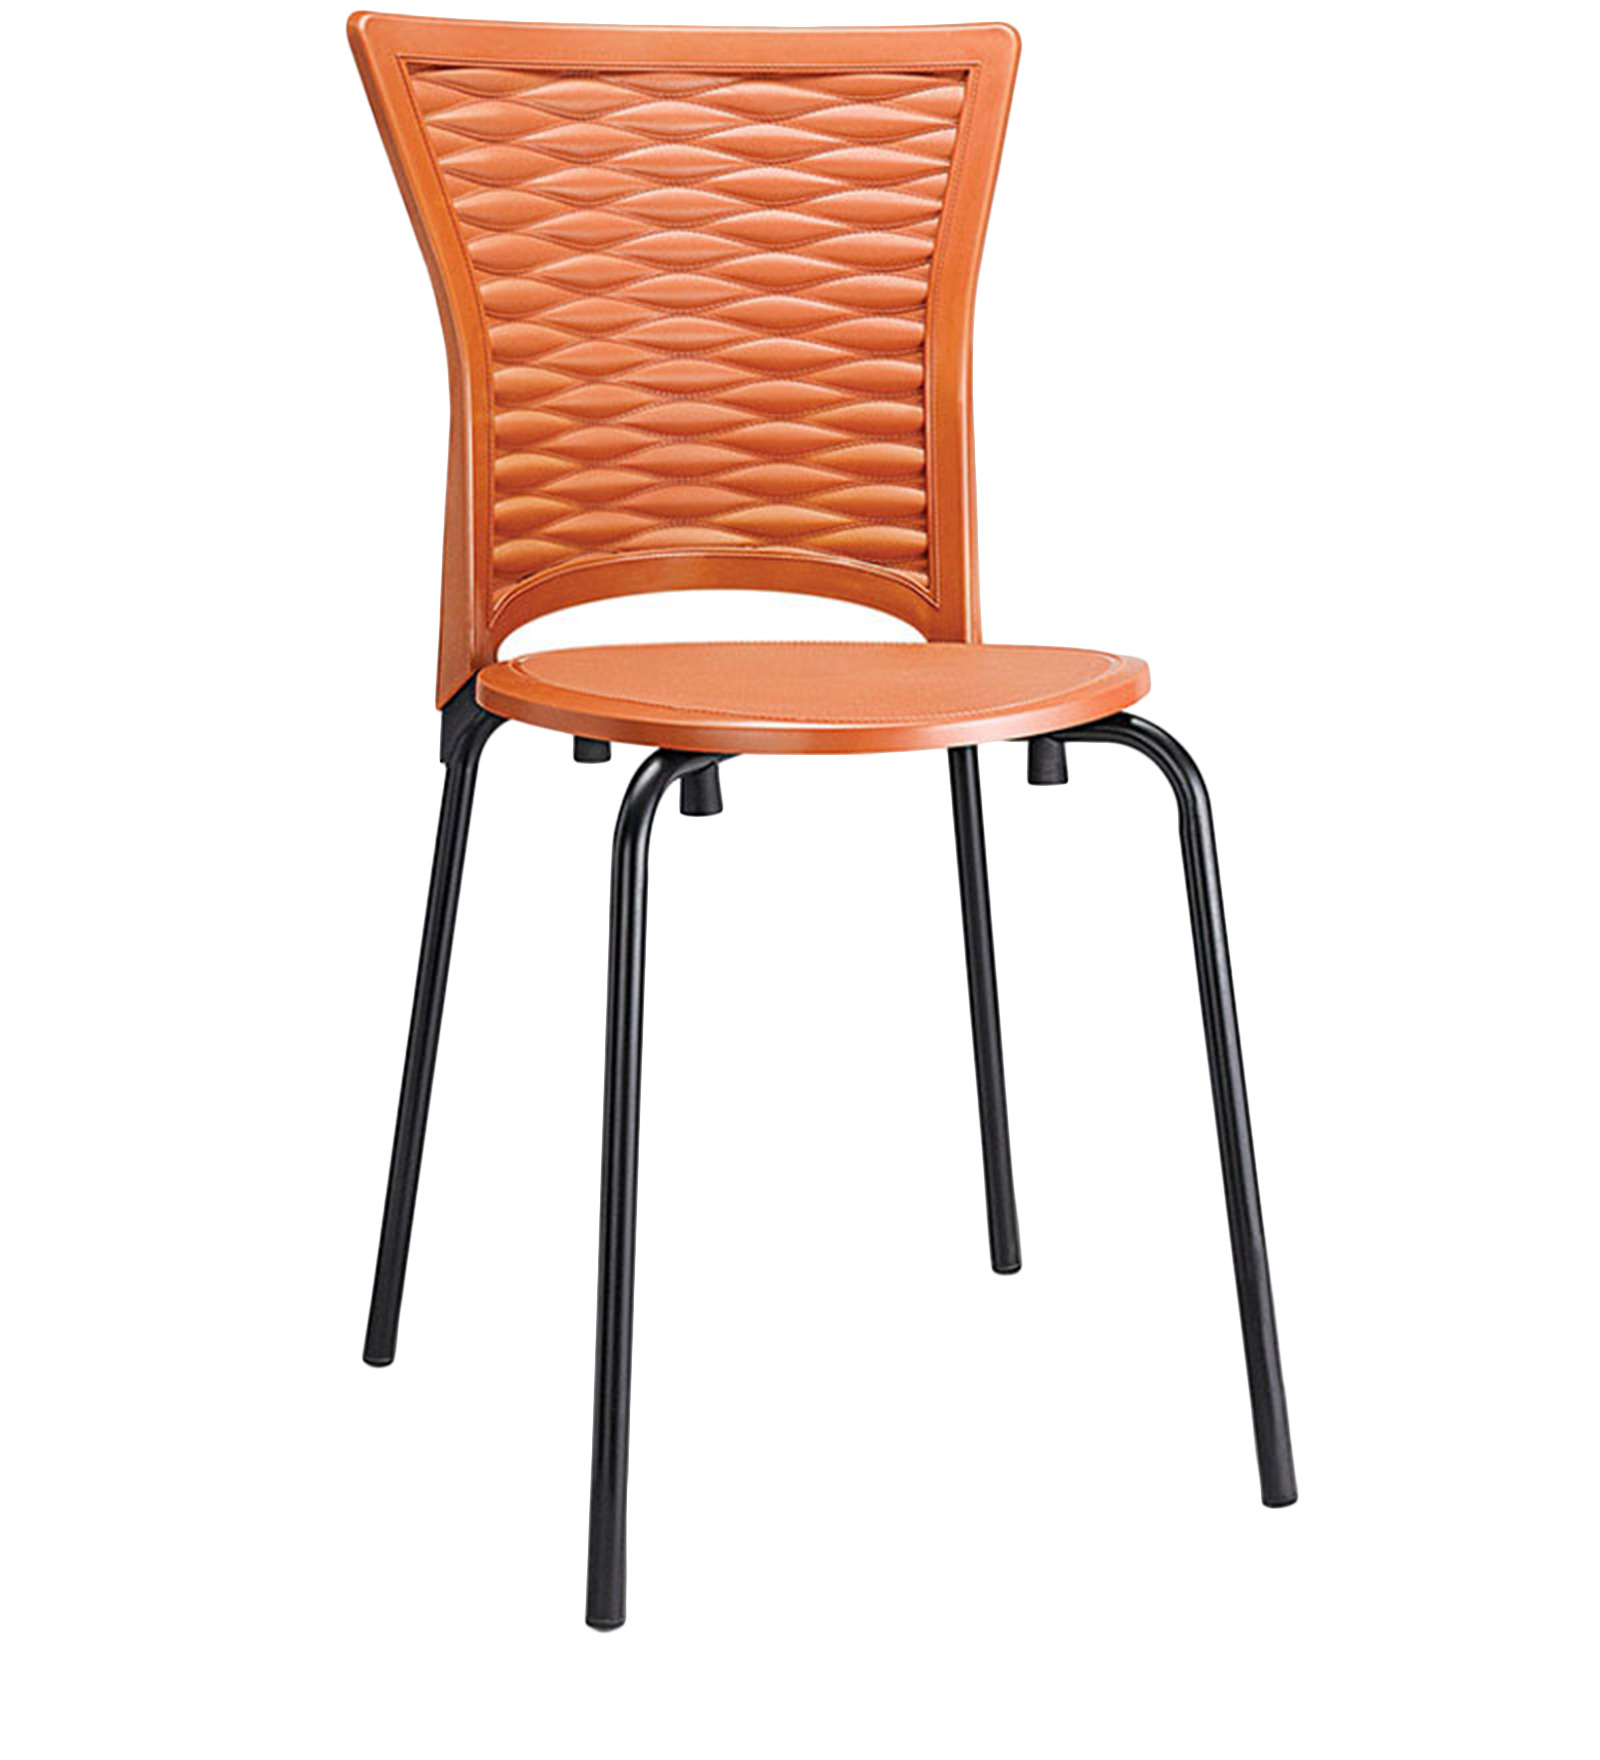Novella Chair in Rust Colour by Nilkamal: (339, 8, 1290, 1633)
